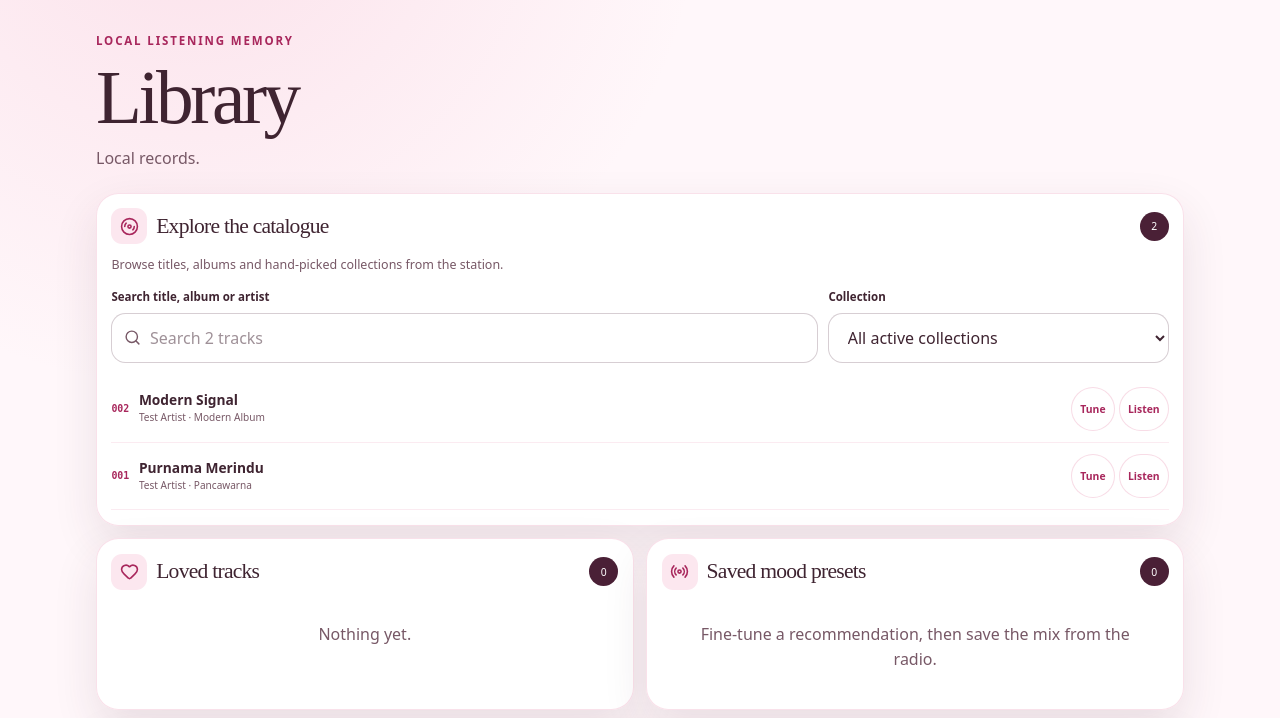
primary experience components › searches and filters the data-driven catalogue accessibly
This screenshot has width=1280, height=718.
Type "Pancawarna" into the search field labelled "Search title, album or artist" at (465, 338), box [111, 313, 818, 363]
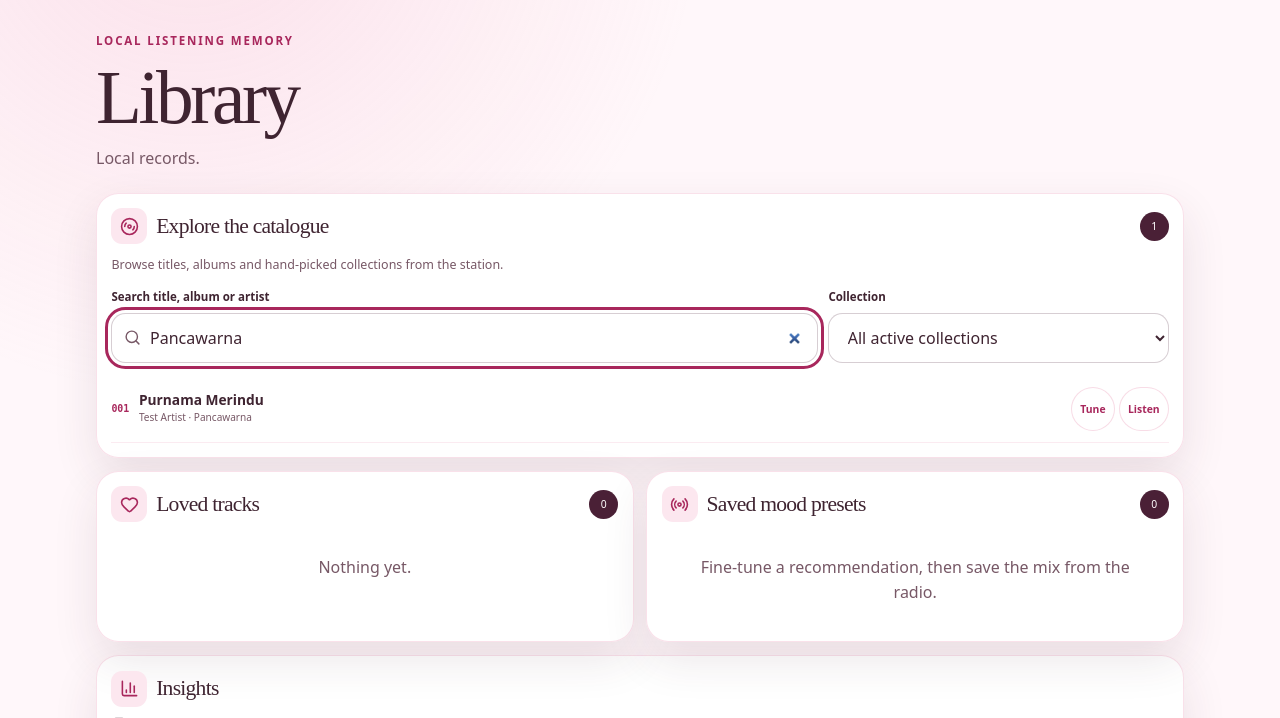
Expected: the text "Modern Signal" is not shown
Clear the search field labelled "Search title, album or artist" at (465, 338), box [111, 313, 818, 363]
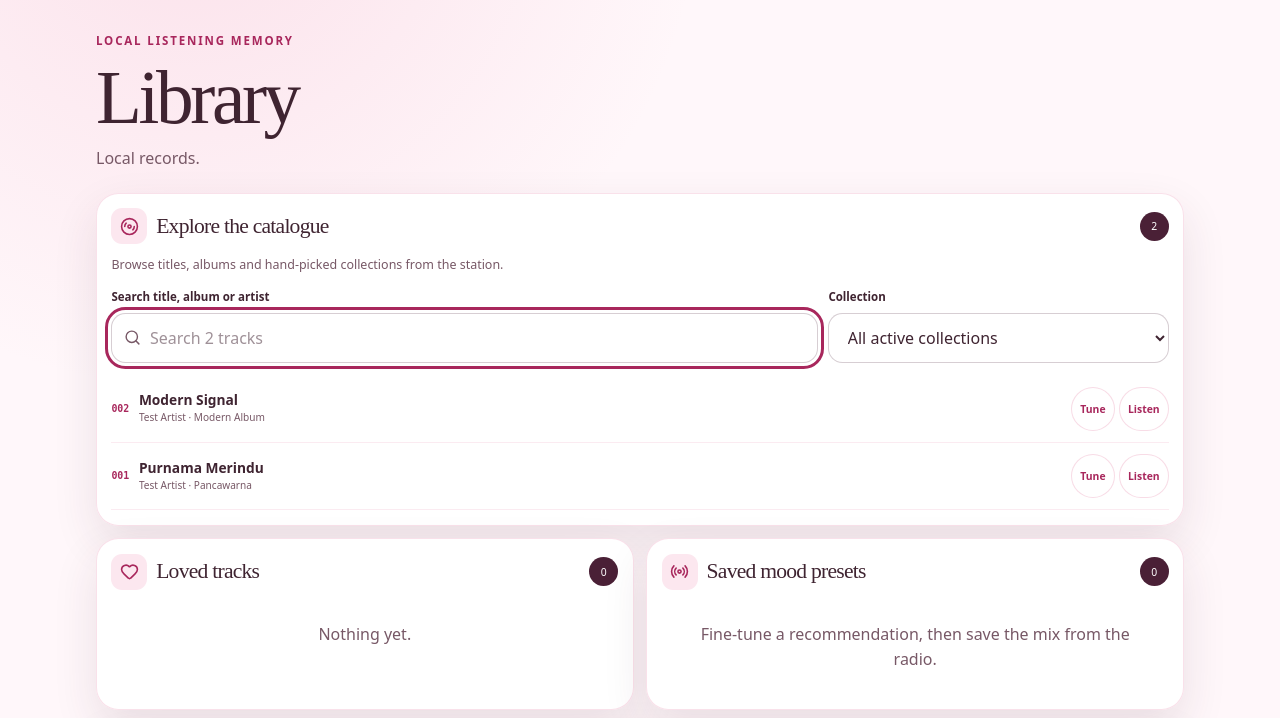
Select "Modern" in the dropdown labelled "Collection" at (998, 338), box [828, 313, 1169, 363]
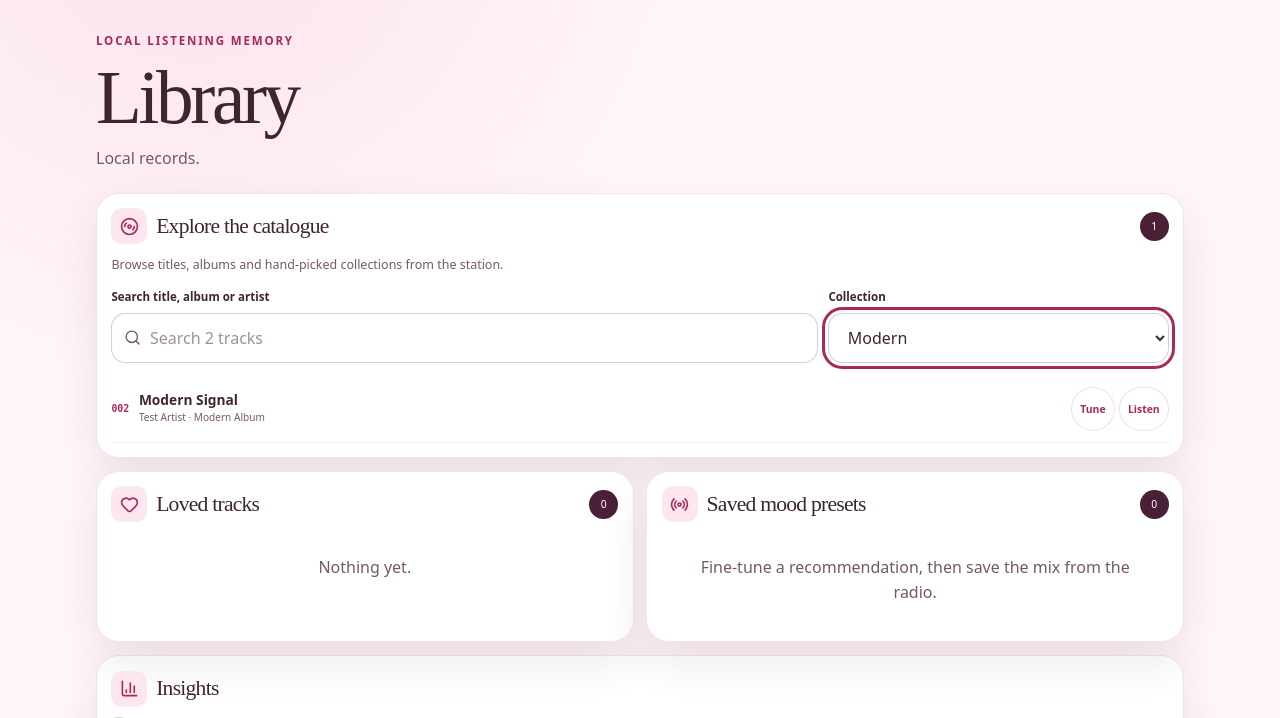
Expected: the text "Purnama Merindu" is not shown
